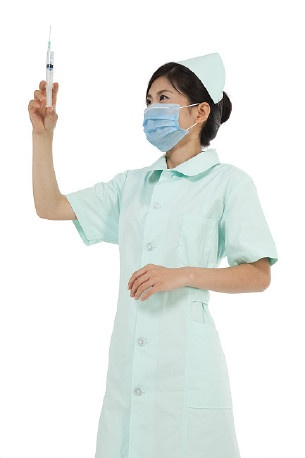Mask: (141, 87, 206, 152)
